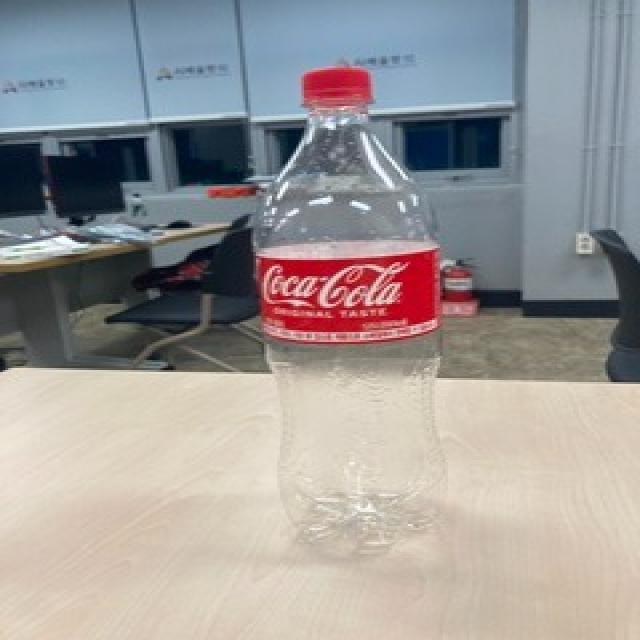good: (246, 58, 454, 562)
